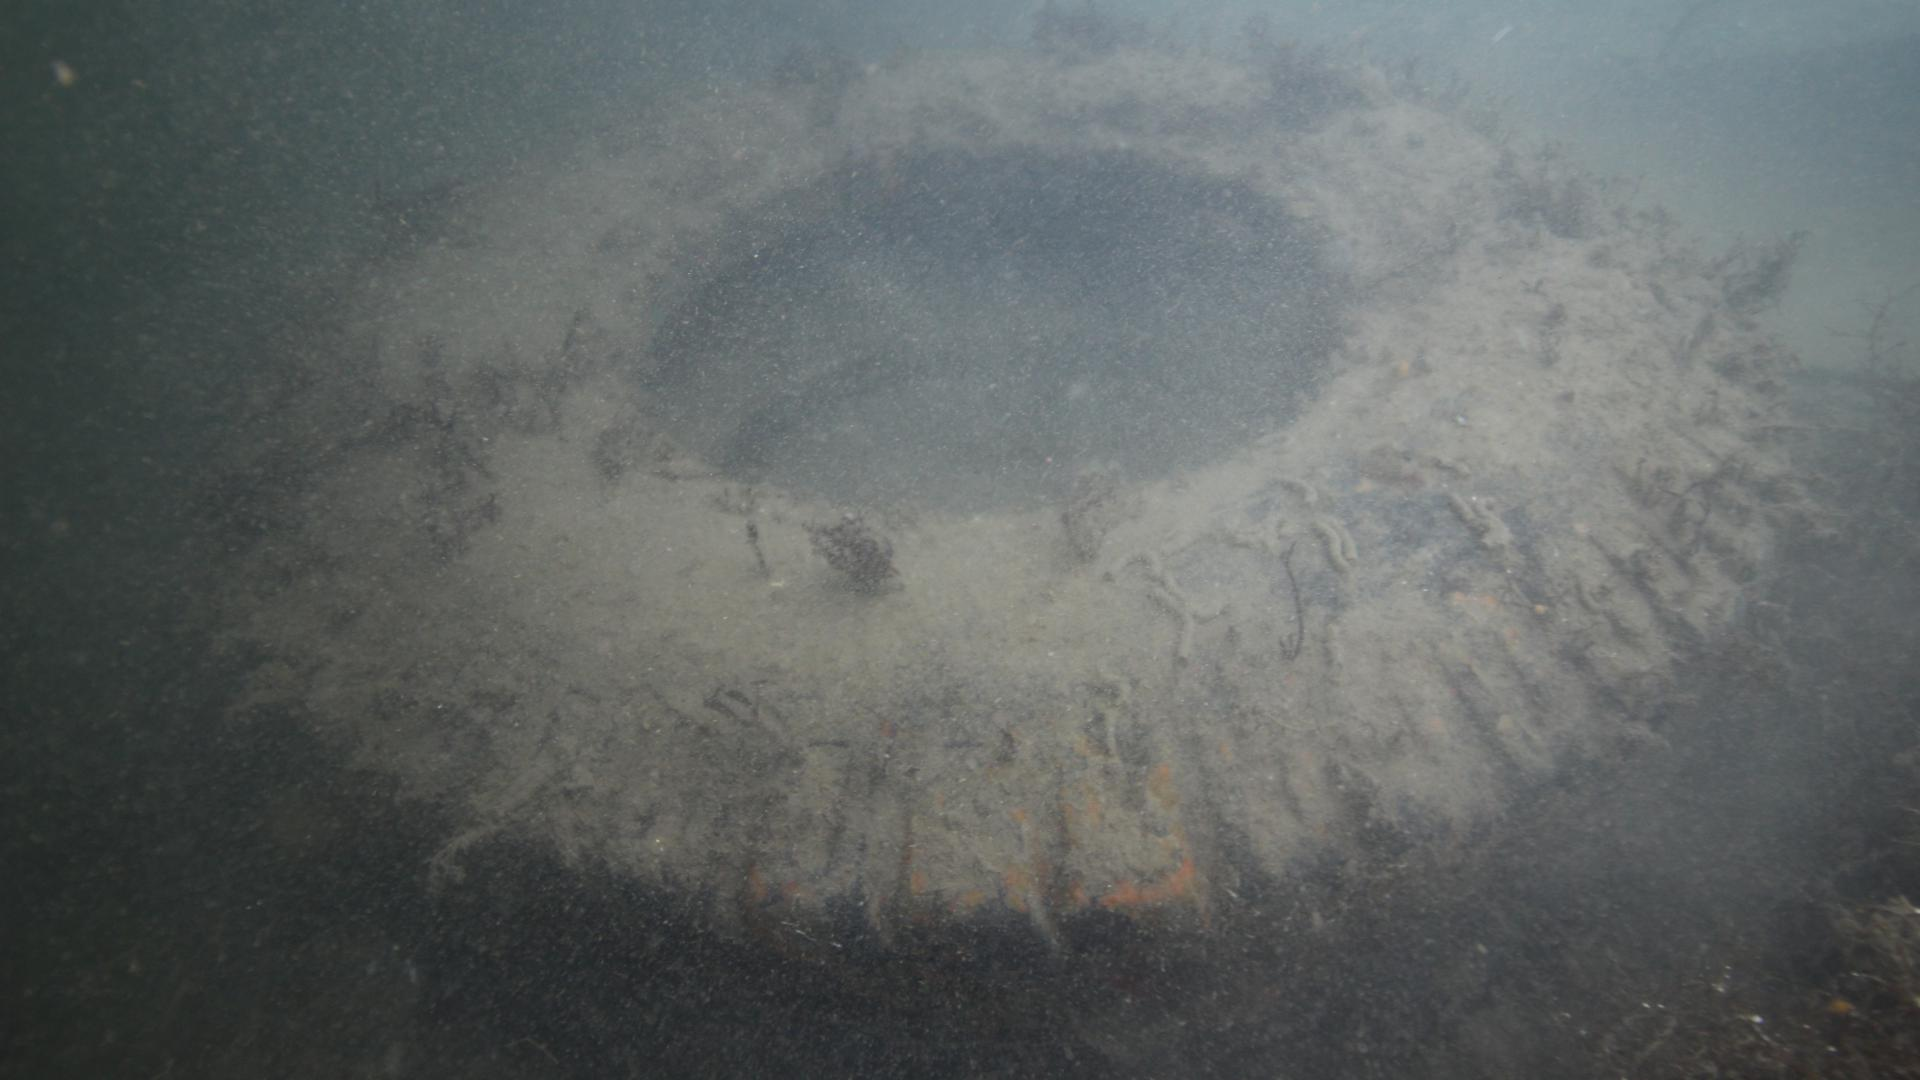tire: (167, 44, 1796, 960)
